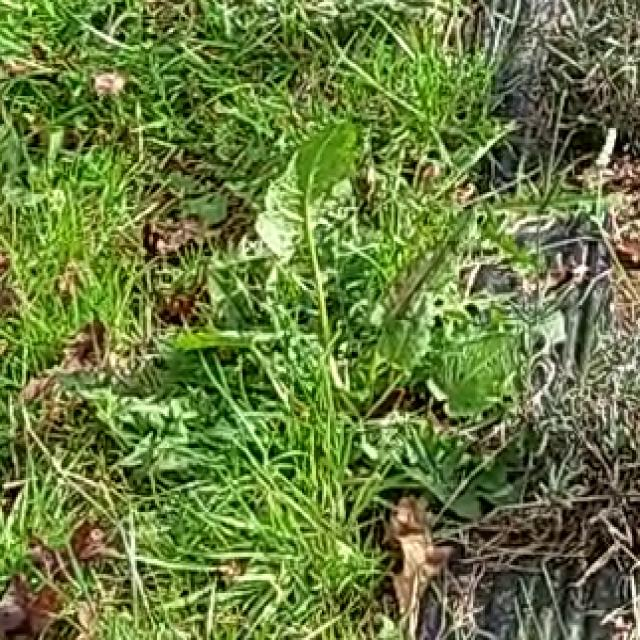organic waste: (127, 107, 519, 440)
